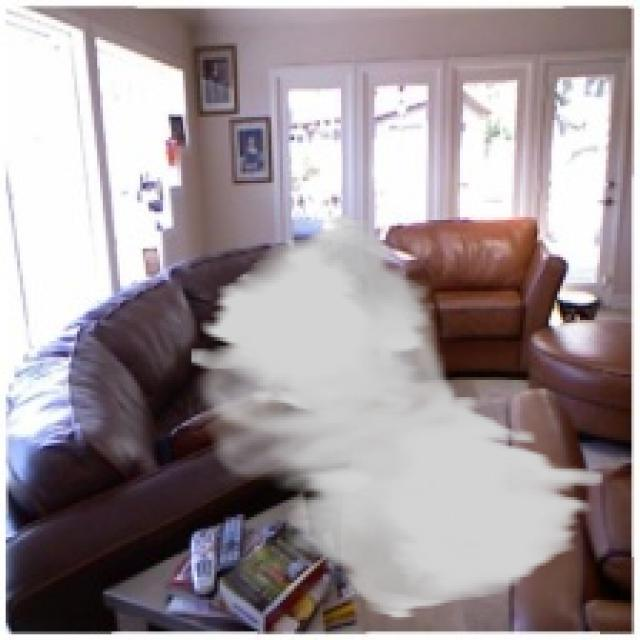smoke: (188, 211, 603, 620)
